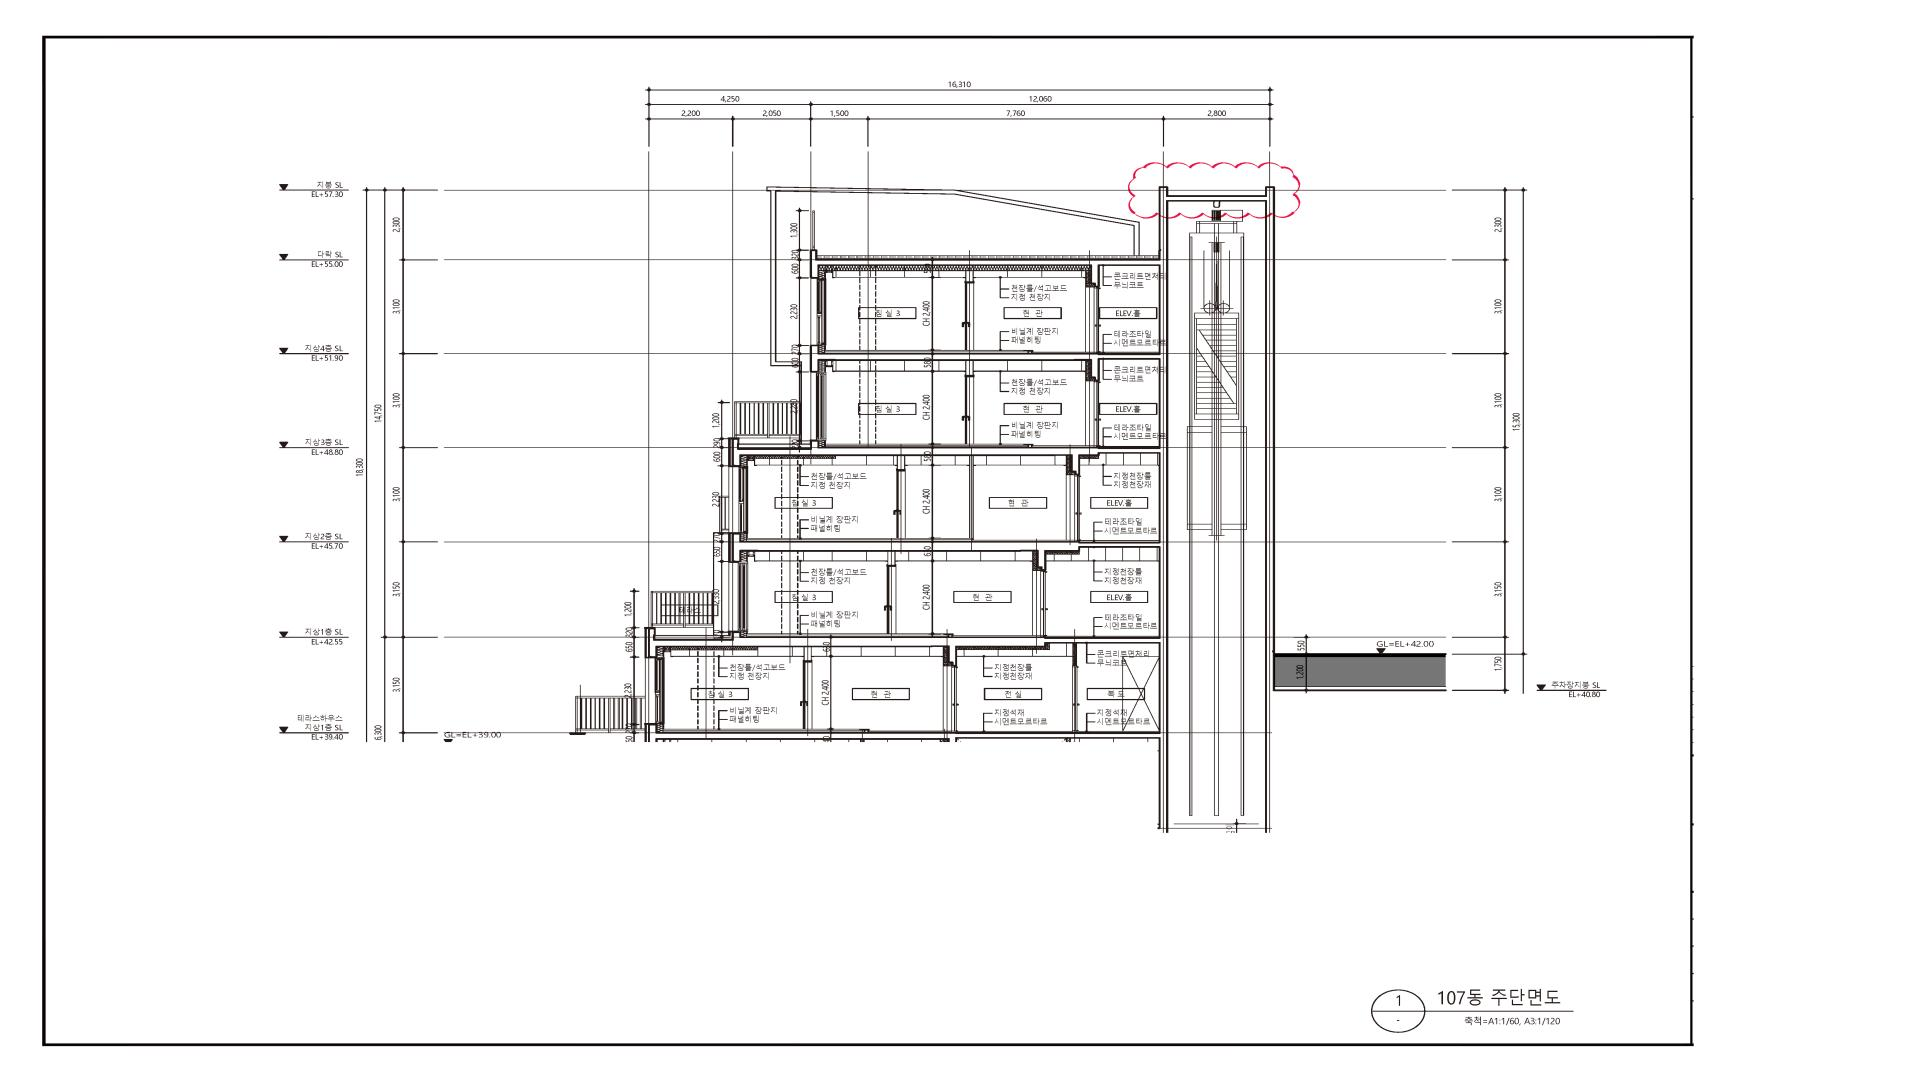door: (896, 469, 906, 538), (964, 282, 974, 351), (803, 660, 812, 729), (887, 565, 896, 634), (965, 375, 974, 444), (1093, 287, 1100, 353), (1040, 571, 1047, 637), (1093, 381, 1100, 446), (1074, 475, 1080, 541), (1072, 665, 1078, 731), (951, 666, 957, 731)
wall: (644, 186, 1275, 835), (965, 361, 974, 376), (887, 552, 896, 565), (1072, 643, 1077, 665), (965, 270, 974, 282), (804, 647, 812, 660), (897, 456, 905, 469)
window: (644, 658, 665, 723), (728, 563, 748, 630), (728, 467, 748, 532), (810, 373, 826, 440), (810, 279, 826, 345)
